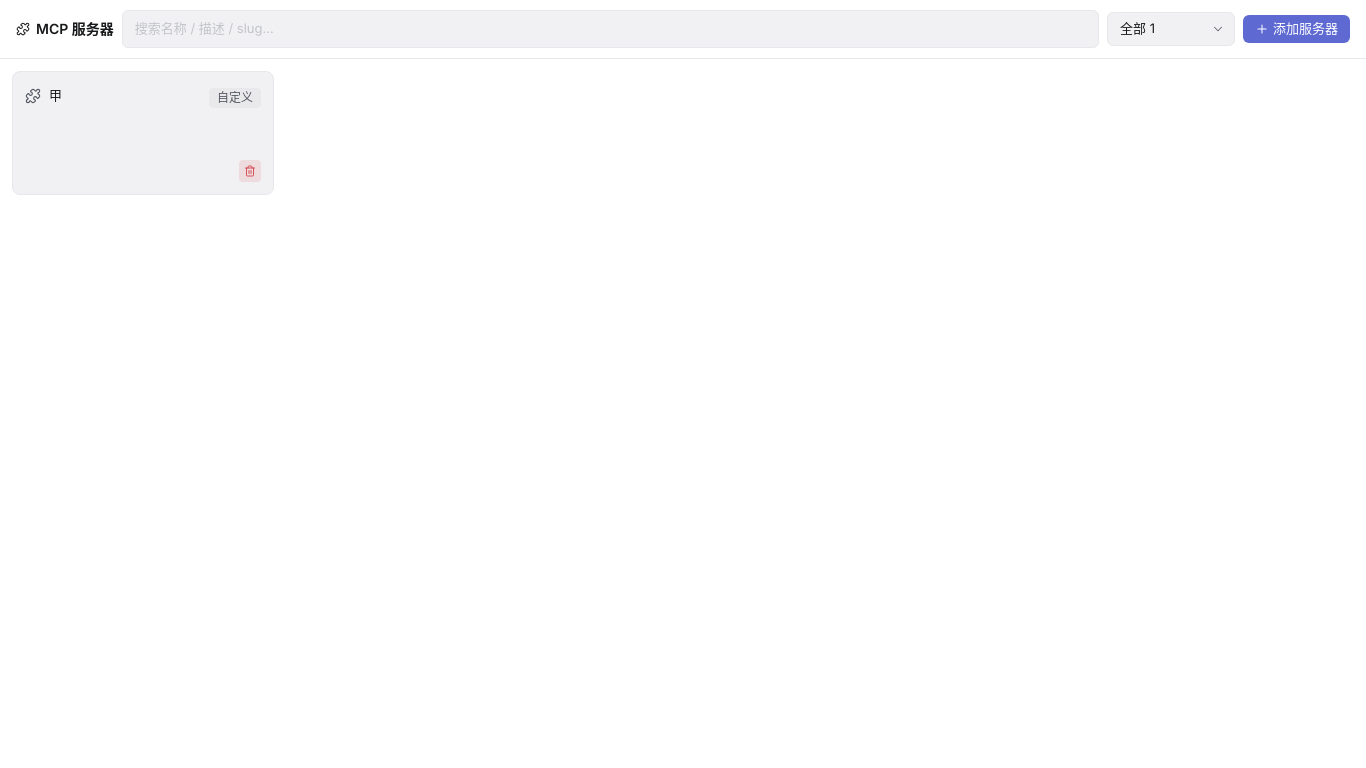
Test: TypePageShell - 删除二次确认（P2.5 Task 4） › 取消 → 不删除且弹窗消失
Click the button named "删除 甲". click: (250, 170)
box: [239,160,261,182]
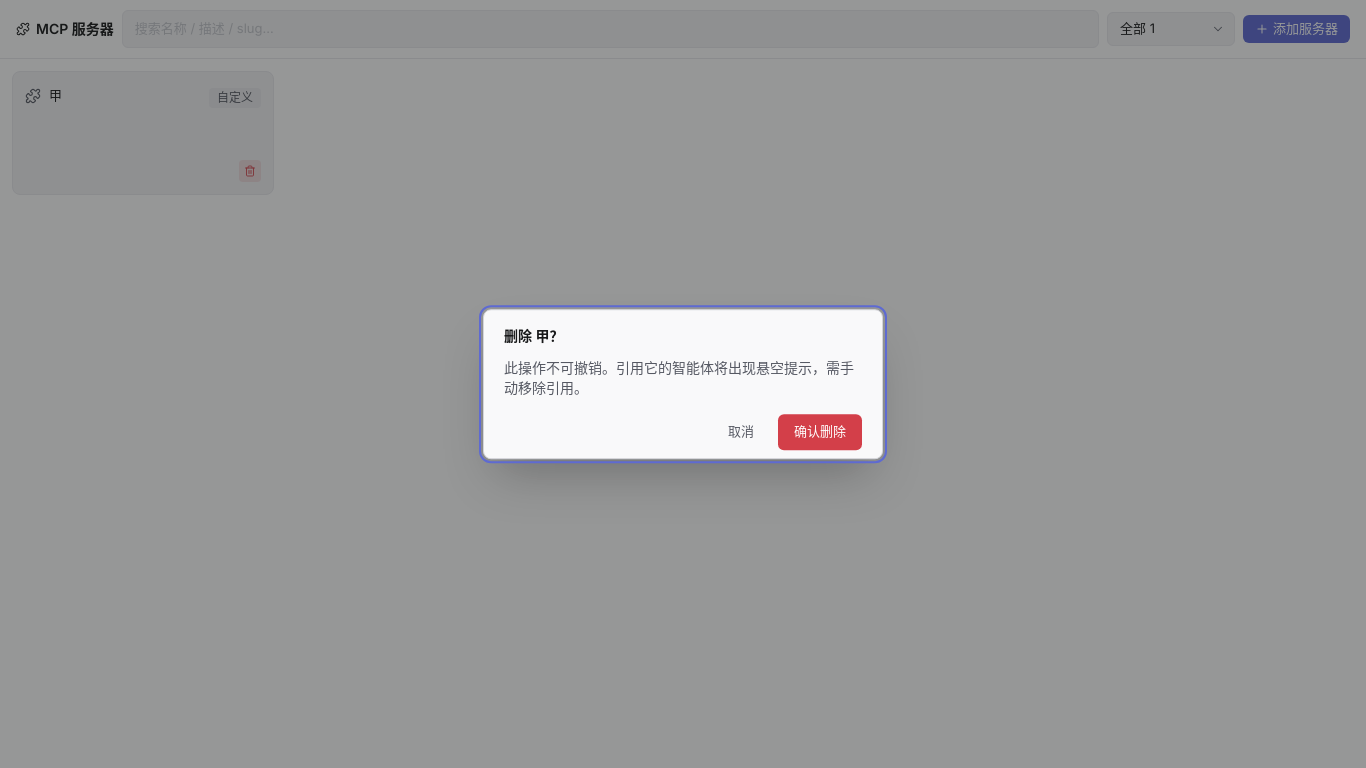
Click the button "取消". click: (741, 432)
box: [712,414,770,450]
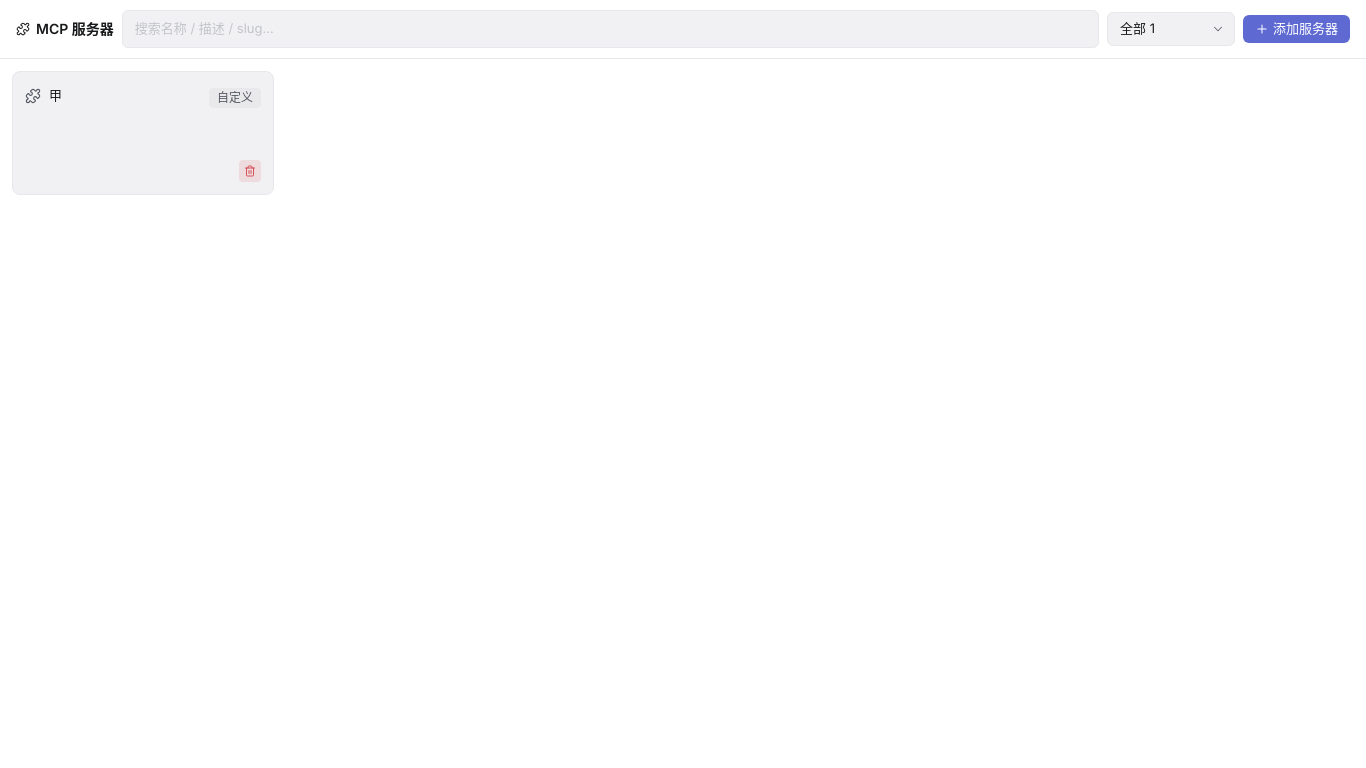
Expected: the dialog is gone
